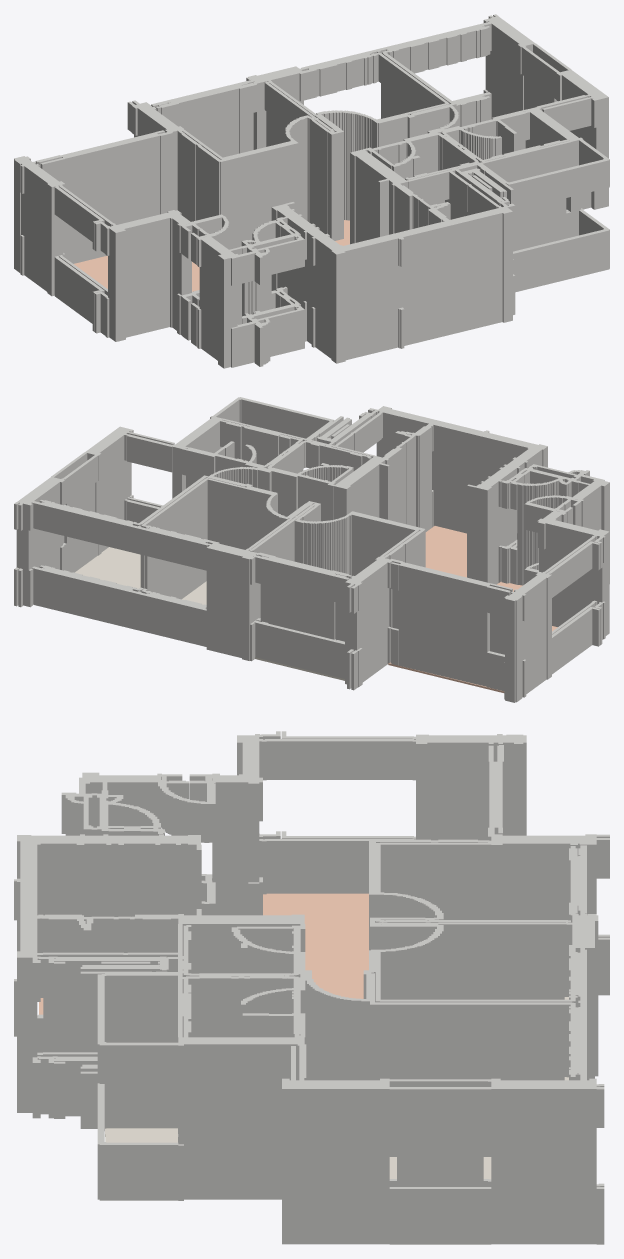
3 renders of one model, top to bottom at view 1: azimuth 30°, elevation 25°; view 2: azimuth 150°, elevation 25°; view 3: azimuth 270°, elevation 25°, orthographic. The views are drawn at different scales.
Parts seen in each view (by area): view 1: walls, room:kitchen:2; view 2: walls, room:kitchen:2, room:other:5; view 3: walls, room:kitchen:2, room:other:10.
Part boxes in pixels (x1=…): walls: x1=14, y1=14, x2=609, y2=368; room:kitchen:2: x1=74, y1=220, x2=349, y2=291; walls: x1=14, y1=397, x2=609, y2=702; room:kitchen:2: x1=388, y1=526, x2=557, y2=692; room:other:5: x1=75, y1=547, x2=140, y2=588; walls: x1=14, y1=731, x2=609, y2=1244; room:kitchen:2: x1=39, y1=893, x2=368, y2=1014; room:other:10: x1=105, y1=1128, x2=177, y2=1142.
Size of the model in its own units: 13.83 by 2.8 by 9.74.
